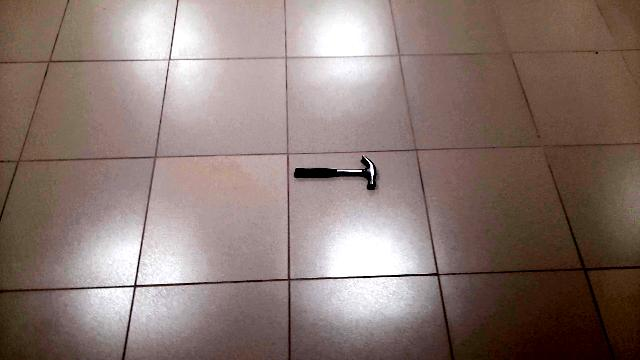hammer: (292, 156, 382, 192)
